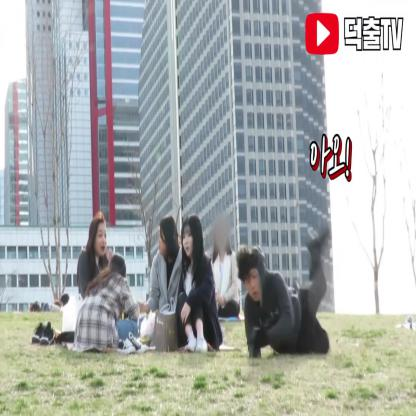Fall_Down: (234, 226, 332, 360)
